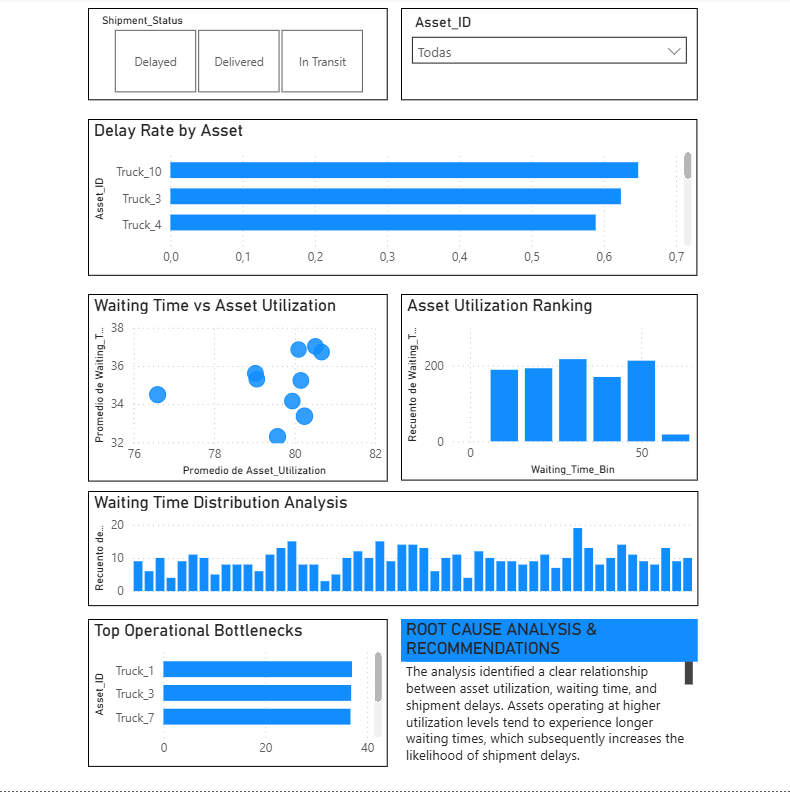

The dashboard page shown, as its layout file describes it:
{"tool":"powerbi","page":{"name":"Delay & Performance Analysis","canvas":[800,800],"ordinal":1},"visuals":[{"type":"slicer","fields":{"Values":["tbl_logistics.Shipment_Status"]},"box":[92.7,34.3,302.3,92.7],"z":0},{"type":"slicer","fields":{"Values":["tbl_logistics.Asset_ID"]},"box":[408.1,34.3,299.2,92.7],"z":1000},{"type":"barChart","title":"Delay Rate by Asset","fields":{"Category":["tbl_logistics.Asset_ID"],"Y":["Avg(tbl_logistics.Logistics_Delay)"]},"box":[92.8,146.1,614.5,157.9],"z":2000},{"type":"scatterChart","title":"Waiting Time vs Asset Utilization","fields":{"X":["Avg(tbl_logistics.Asset_Utilization)"],"Y":["Avg(tbl_logistics.Waiting_Time)"],"Category":["tbl_logistics.Asset_ID"],"Size":["Avg(tbl_logistics.Inventory_Level)"]},"box":[92.7,322.4,302.3,189.4],"z":3000},{"type":"clusteredColumnChart","title":"Asset Utilization Ranking","fields":{"Category":["tbl_logistics.Waiting_Time_Bin"],"Y":["CountNonNull(tbl_logistics.Waiting_Time)"]},"box":[408.1,322.4,299.2,188.4],"z":4000},{"type":"columnChart","title":"Waiting Time Distribution Analysis","fields":{"Category":["tbl_logistics.Waiting_Time"],"Y":["CountNonNull(tbl_logistics.Waiting_Time)"]},"box":[92.7,520.9,614.6,115.9],"z":5000},{"type":"barChart","title":"Top Operational Bottlenecks","fields":{"Category":["tbl_logistics.Asset_ID"],"Y":["Avg(tbl_logistics.Waiting_Time)"]},"box":[92.7,649.9,302.3,149.1],"z":6000},{"type":"textbox","title":"ROOT CAUSE ANALYSIS & RECOMMENDATIONS","box":[408.1,649.9,299.2,151.1],"z":7000}]}

Visuals, with their boxes in screenshot pixels (x1, y1, x2, y2), scaled from the page's 800x800 canvas onto the 790x792 screenshot:
slicer - tbl_logistics.Shipment_Status: [x1=92, y1=34, x2=390, y2=126]
slicer - tbl_logistics.Asset_ID: [x1=403, y1=34, x2=698, y2=126]
"Delay Rate by Asset" barChart: [x1=92, y1=145, x2=698, y2=301]
"Waiting Time vs Asset Utilization" scatterChart: [x1=92, y1=319, x2=390, y2=507]
"Asset Utilization Ranking" clusteredColumnChart: [x1=403, y1=319, x2=698, y2=506]
"Waiting Time Distribution Analysis" columnChart: [x1=92, y1=516, x2=698, y2=630]
"Top Operational Bottlenecks" barChart: [x1=92, y1=643, x2=390, y2=791]
"ROOT CAUSE ANALYSIS & RECOMMENDATIONS" textbox: [x1=403, y1=643, x2=698, y2=791]
